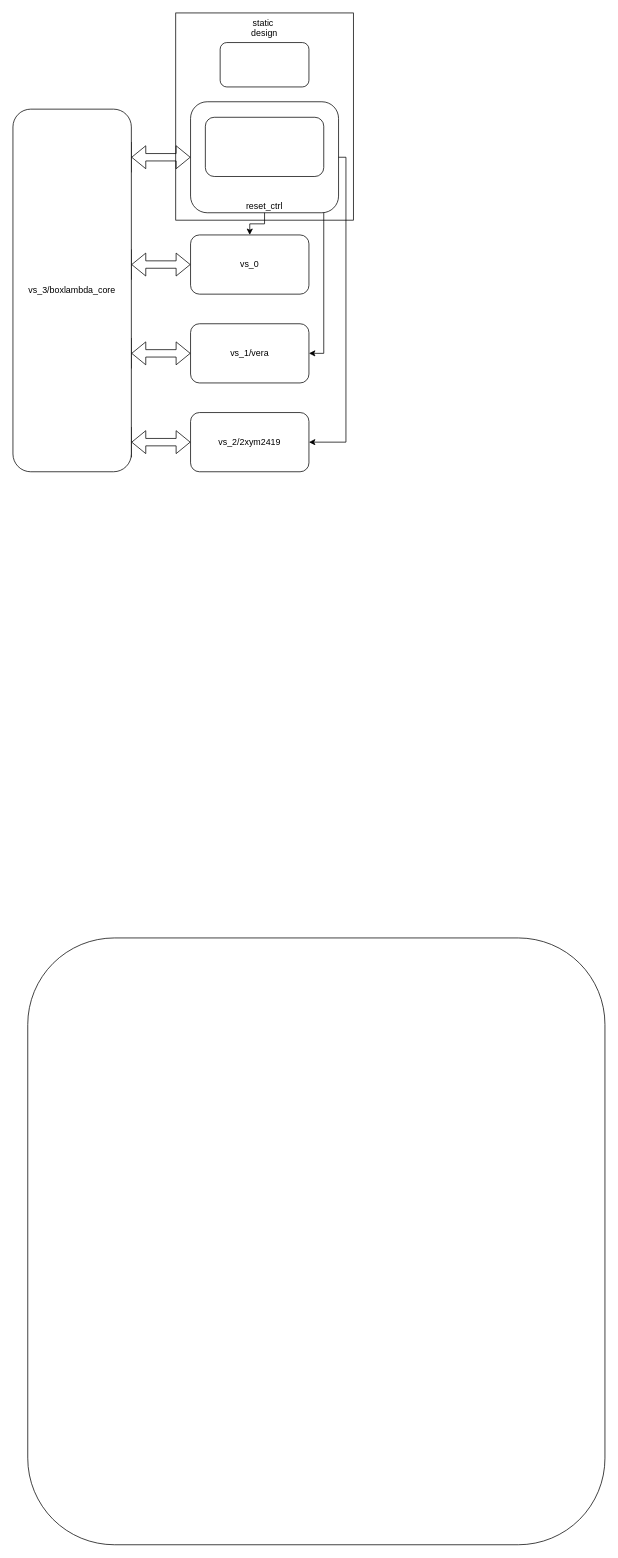
This 618x1558 diagram has some shape labels left out. Here are the shapes that lost their labels. From the top down, the centre of each, then its label:
the point at 264,64: clk_gen
the point at 264,146: wb_dfx_controller
the point at 316,1241: boxlambda_top
